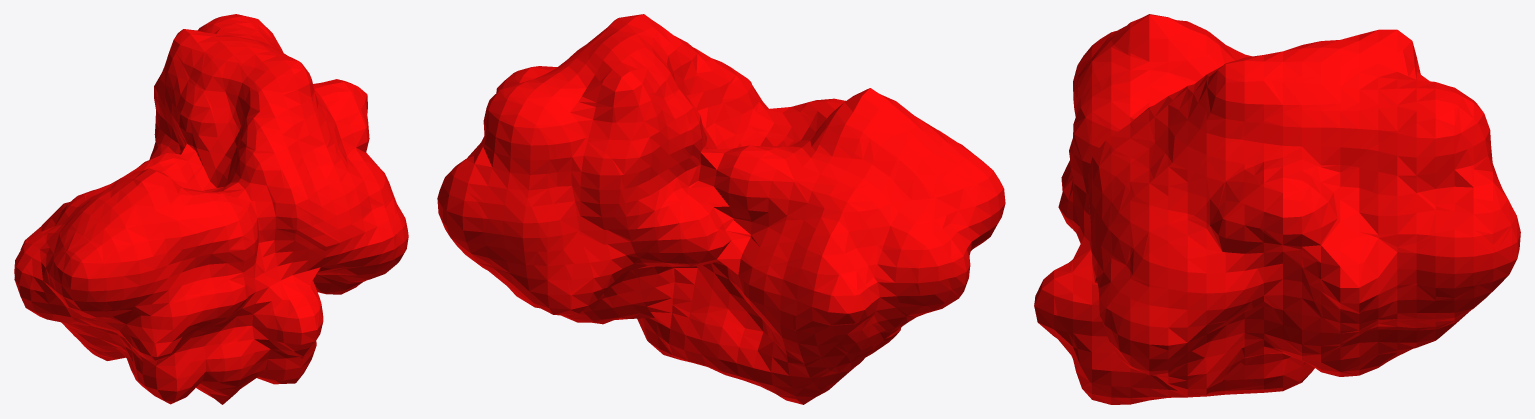
File: Receptor_type_tyrosine_protein_2_coarse.dae
3 views of the same model, side by side, from view 1: azimuth 30°, elevation 25°; view 2: azimuth 150°, elevation 25°; view 3: azimuth 270°, elevation 25° (orthographic). The views are drawn at different scales.
Parts seen in each view (by area): view 1: Receptor_type_tyrosine_protein_2; view 2: Receptor_type_tyrosine_protein_2; view 3: Receptor_type_tyrosine_protein_2.
Part boxes in pixels (x1,y1,x2,y2): Receptor_type_tyrosine_protein_2: (14, 14, 408, 404); Receptor_type_tyrosine_protein_2: (437, 14, 1005, 404); Receptor_type_tyrosine_protein_2: (1034, 14, 1520, 404).
Size of the model in its own units: 85.82 by 63.54 by 70.87.
